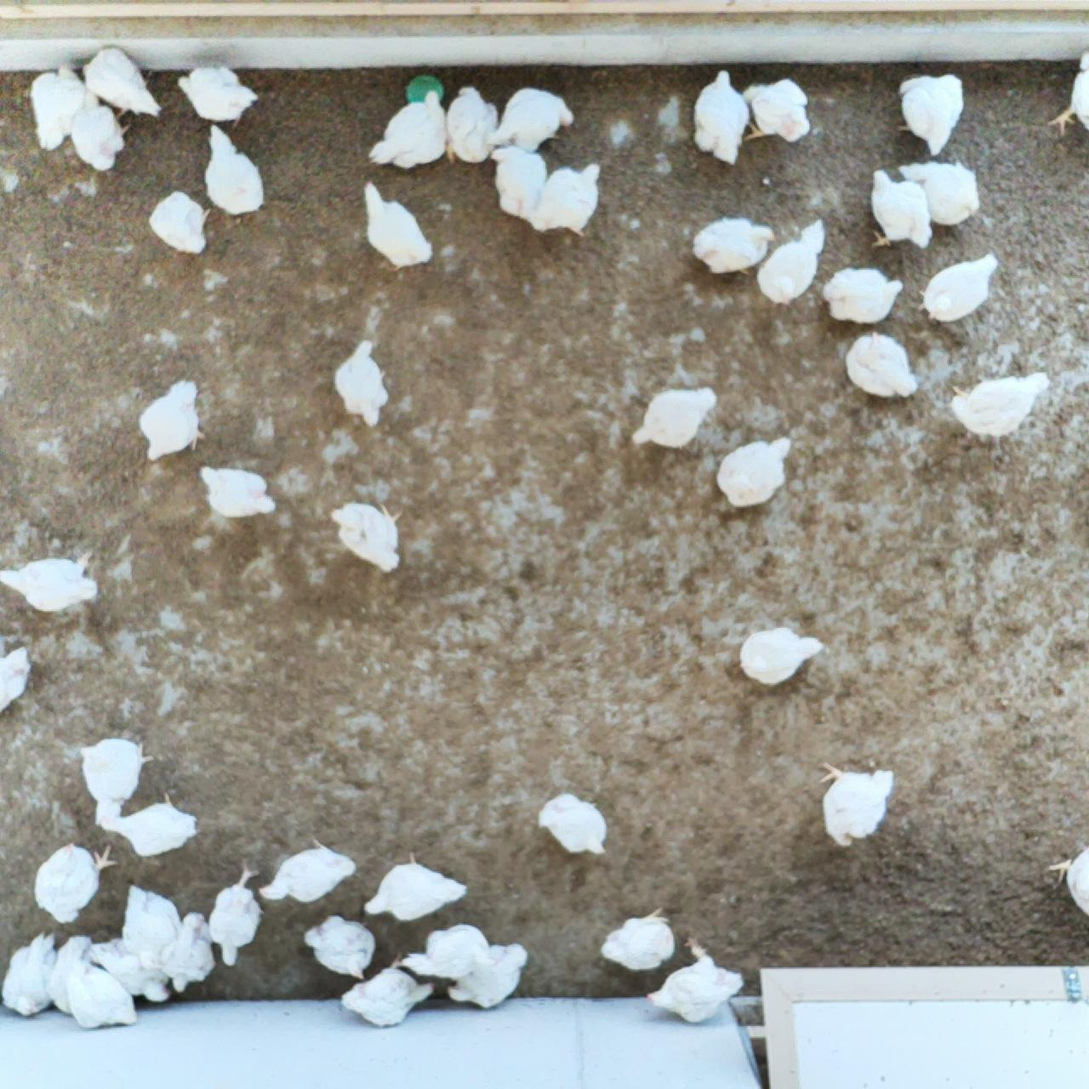chicken: (644, 936, 747, 1027), (361, 850, 470, 923), (814, 758, 897, 852), (31, 840, 119, 927), (340, 951, 438, 1028), (360, 177, 436, 276), (77, 734, 156, 828), (947, 369, 1052, 438), (366, 88, 451, 171), (754, 216, 831, 307), (255, 837, 358, 905), (100, 789, 200, 859), (206, 857, 268, 969), (627, 383, 724, 454), (0, 548, 100, 614), (892, 71, 967, 159), (199, 123, 268, 217), (81, 44, 164, 120), (328, 495, 406, 575), (136, 378, 208, 464), (917, 252, 1000, 326), (894, 160, 984, 228), (486, 84, 576, 152), (691, 67, 751, 168), (865, 167, 934, 252), (688, 213, 778, 278), (86, 936, 172, 1004), (737, 624, 825, 690), (715, 436, 794, 509), (331, 337, 393, 430), (176, 62, 260, 130), (444, 942, 528, 1010), (530, 161, 604, 238), (597, 903, 678, 973), (843, 330, 920, 403), (120, 882, 182, 971), (65, 957, 139, 1031), (29, 58, 86, 153), (301, 912, 378, 982), (69, 89, 132, 174), (821, 264, 906, 327), (0, 929, 59, 1018), (399, 924, 491, 981), (535, 790, 612, 857), (161, 906, 218, 996), (741, 76, 813, 145), (489, 144, 548, 225), (443, 83, 500, 165), (196, 464, 278, 519), (146, 189, 213, 256), (44, 933, 95, 1017), (1045, 46, 1089, 139), (1043, 840, 1089, 919), (0, 644, 34, 718)
